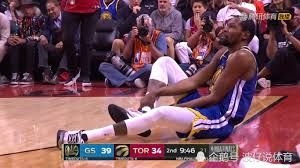10+: (1, 1, 298, 166)
down: (54, 12, 264, 153)
